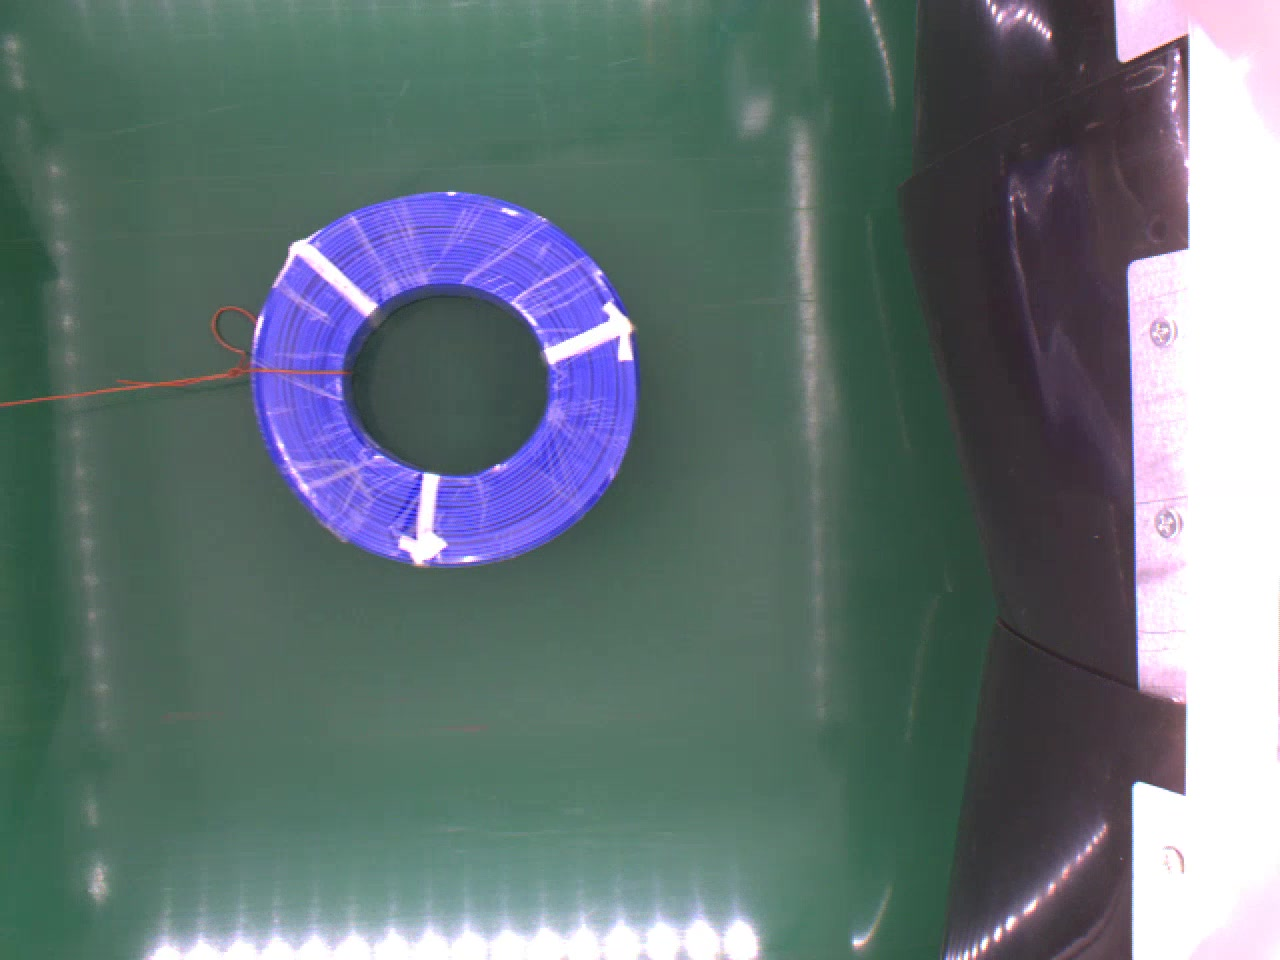blue: (248, 185, 640, 563)
